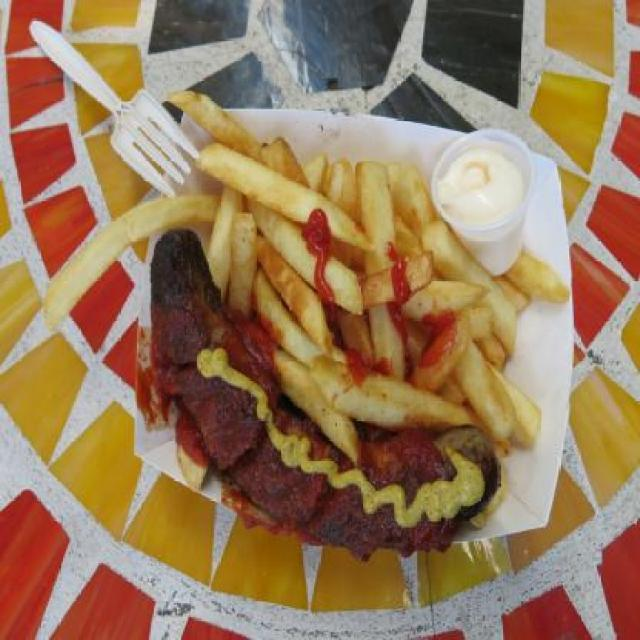French fries: (21, 89, 574, 445)
